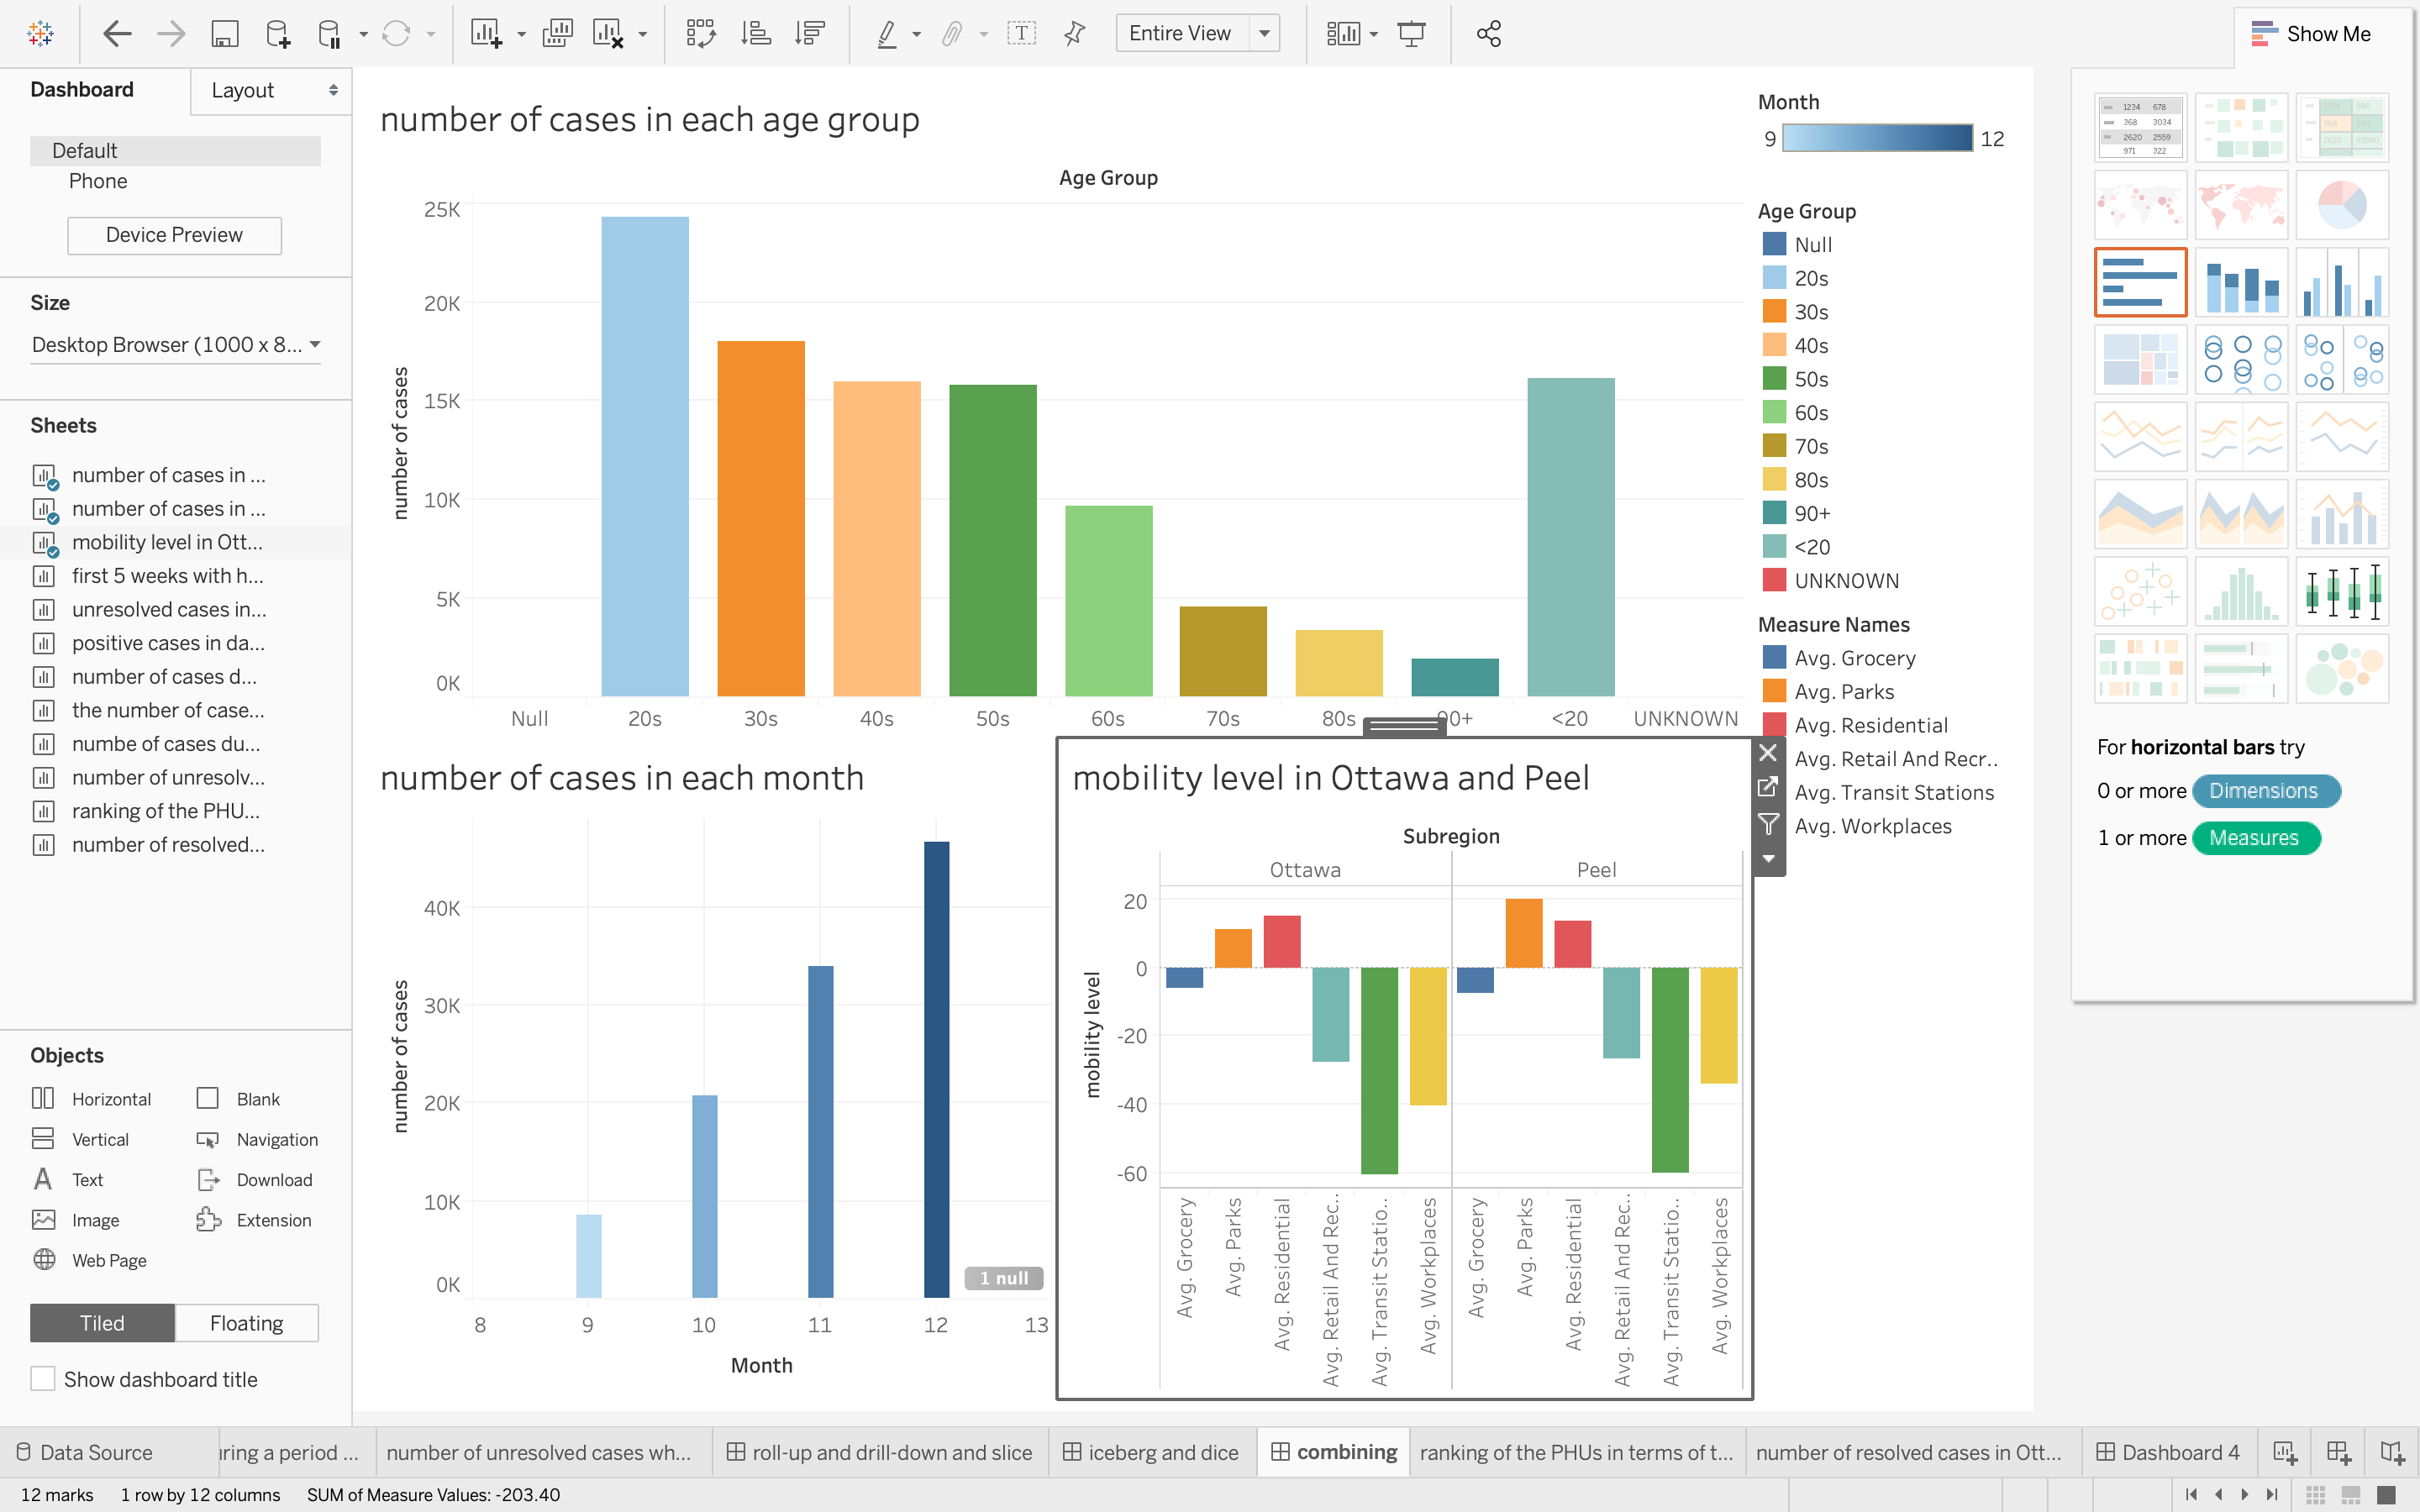

The dashboard page shown, as its layout file describes it:
{"tool":"tableau","page":{"name":"combining","canvas":[1000,800],"ordinal":1},"visuals":[{"type":"worksheet","box":[0,0,1000,800]},{"type":"worksheet","param":"horz","box":[8,8,984,784]},{"type":"worksheet","box":[8,8,824,784]},{"type":"worksheet","title":"number of cases in each age group","mark":"Automatic","rows":["patient_key"],"cols":["age_group"],"box":[8,8,824,392]},{"type":"worksheet","param":"vert","box":[832,8,160,784]},{"type":"worksheet","title":"number of cases in each month","mark":"Bar","rows":["patient_key"],"cols":["month"],"param":"[federated.00brt8x1lf8uqt18o7d6713epns0].[none:month:qk]","box":[832,8,160,65]},{"type":"worksheet","title":"number of cases in each age group","mark":"Automatic","rows":["patient_key"],"cols":["age_group"],"param":"[federated.00brt8x1lf8uqt18o7d6713epns0].[none:age_group:nk]","box":[832,73,160,246]},{"type":"worksheet","title":"mobility level in Ottawa and Peel","mark":"Automatic","cols":["subregion"],"param":"[federated.00brt8x1lf8uqt18o7d6713epns0].[:Measure Names]","box":[832,319,160,146]},{"type":"worksheet","title":"number of cases in each month","mark":"Bar","rows":["patient_key"],"cols":["month"],"box":[8,400,412,392]},{"type":"worksheet","title":"mobility level in Ottawa and Peel","mark":"Automatic","cols":["subregion"],"box":[420,400,412,392]}]}

Visuals, with their boxes on the page's 1000x800 design canvas (x1, y1, x2, y2). These are canvas units, not pixel positions in the 2420x1512 screenshot, which may show the page scaled, cropped or inside an application window:
worksheet: bbox(0, 0, 1000, 800)
worksheet: bbox(8, 8, 992, 792)
worksheet: bbox(8, 8, 832, 792)
"number of cases in each age group" worksheet: bbox(8, 8, 832, 400)
worksheet: bbox(832, 8, 992, 792)
"number of cases in each month" worksheet (Bar marks): bbox(832, 8, 992, 73)
"number of cases in each age group" worksheet: bbox(832, 73, 992, 319)
"mobility level in Ottawa and Peel" worksheet: bbox(832, 319, 992, 465)
"number of cases in each month" worksheet (Bar marks): bbox(8, 400, 420, 792)
"mobility level in Ottawa and Peel" worksheet: bbox(420, 400, 832, 792)
